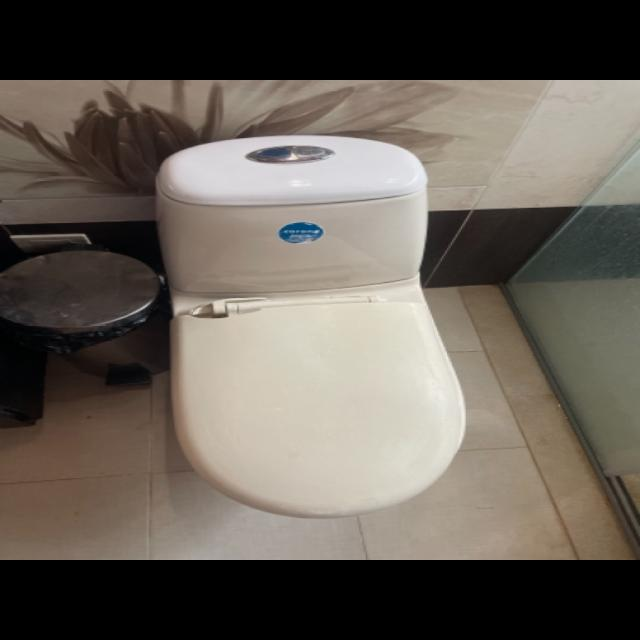toilet: (154, 134, 466, 518)
